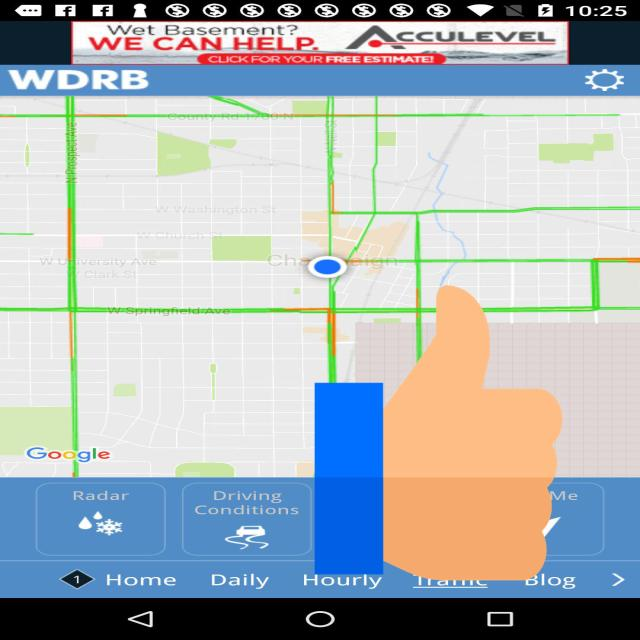privacy zuckering: (315, 278, 562, 588)
